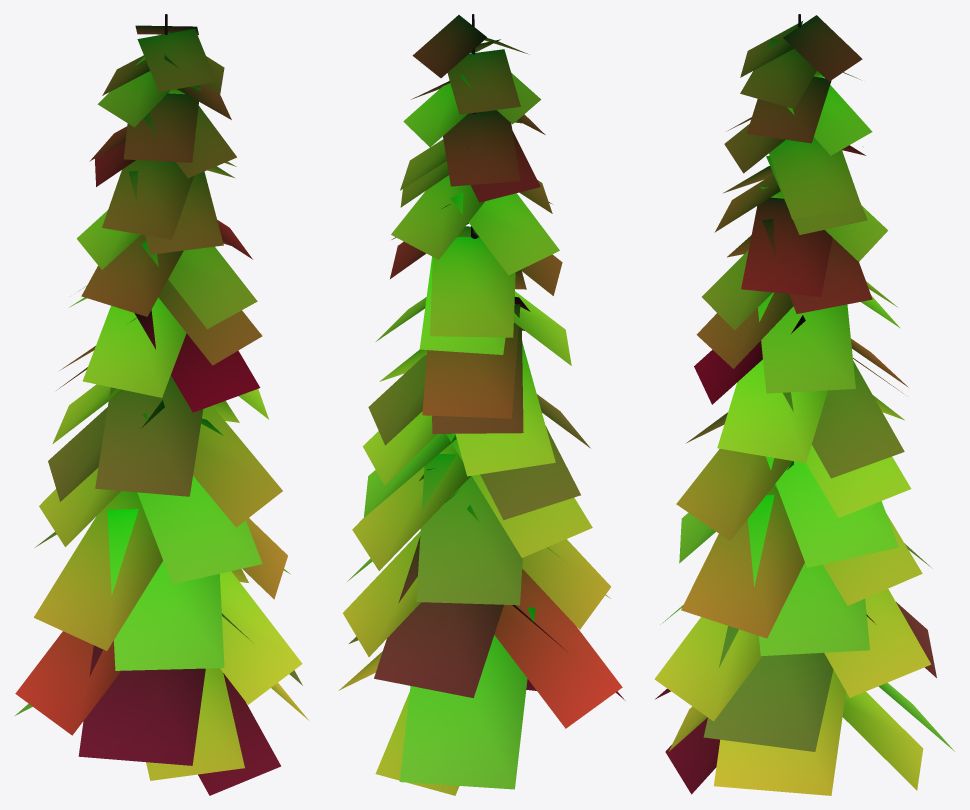
Rendered from Tree_3.fbx.
3 renders of one model, left to right at view 1: azimuth 30°, elevation 25°; view 2: azimuth 150°, elevation 25°; view 3: azimuth 270°, elevation 25°, orthographic. The views are drawn at different scales.
Parts seen in each view (by area): view 1: Tree_3; view 2: Tree_3; view 3: Tree_3.
Boxes of the visible parts, x1,y1,x2,y2 form: Tree_3: (15,14,308,795); Tree_3: (338,14,625,795); Tree_3: (654,14,954,795).
Bounding box in the file's own units: 836 × 2414 × 873.
